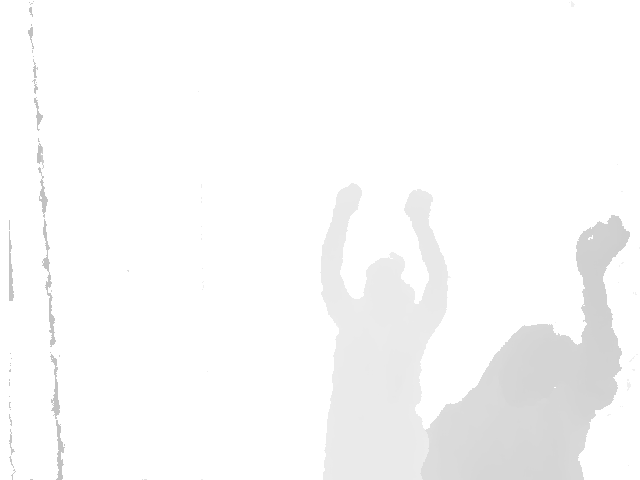hand: (574, 216, 630, 273), (405, 189, 432, 222), (333, 183, 361, 213)
head: (474, 325, 579, 421), (361, 253, 414, 306)
person: (418, 216, 640, 480), (317, 183, 449, 480)
